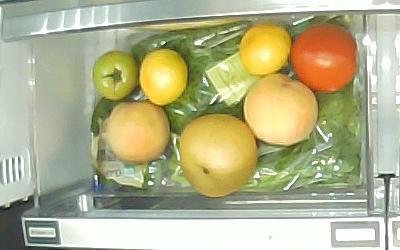peach: (242, 72, 319, 146), (106, 100, 172, 164)
pear: (180, 114, 259, 199)
tangerine: (139, 48, 187, 107), (241, 22, 292, 75)
tomato: (290, 25, 358, 94), (93, 51, 139, 102)
